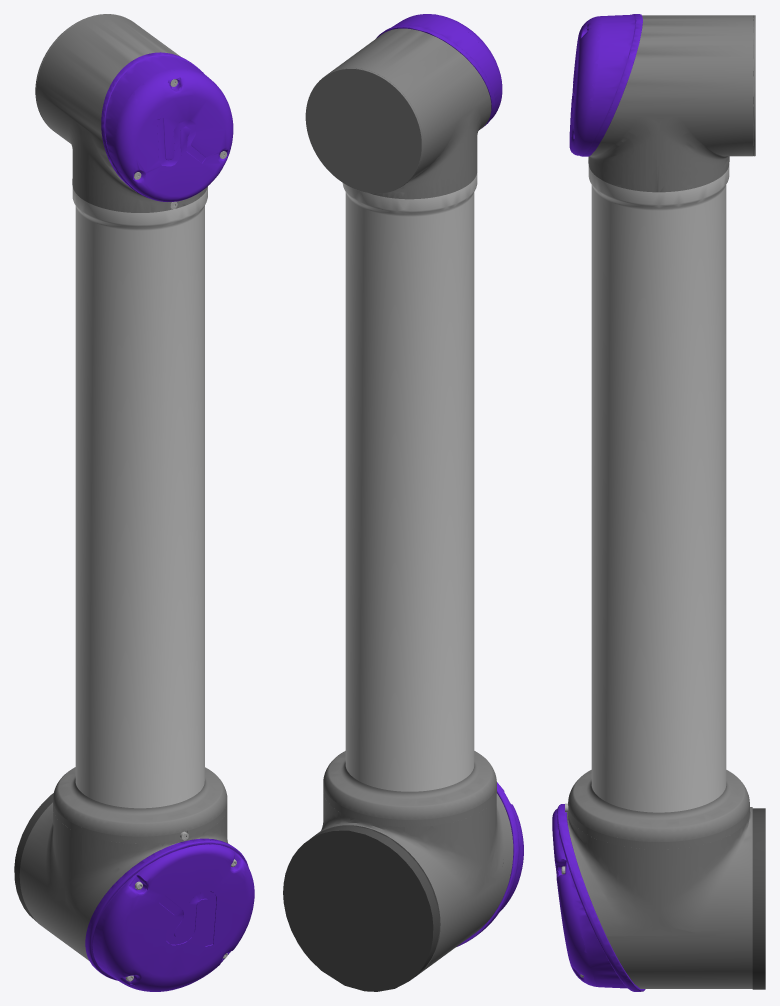
File: forearm.dae
3 renders of one model, left to right at view 1: azimuth 30°, elevation 25°; view 2: azimuth 150°, elevation 25°; view 3: azimuth 270°, elevation 25°, orthographic. The views are drawn at different scales.
Visible parts, largest first — view 1: node-shape3-name, node-shape1-name, node-shape0-name, node-shape4-name; view 2: node-shape3-name, node-shape0-name, node-shape4-name, node-shape1-name; view 3: node-shape3-name, node-shape0-name, node-shape1-name, node-shape4-name.
Part boxes in pixels (bbox=[...]): node-shape3-name: bbox=[72, 186, 207, 808]; node-shape1-name: bbox=[85, 52, 254, 991]; node-shape0-name: bbox=[19, 14, 228, 960]; node-shape4-name: bbox=[14, 793, 53, 923]; node-shape3-name: bbox=[342, 173, 477, 791]; node-shape0-name: bbox=[305, 28, 513, 974]; node-shape4-name: bbox=[283, 825, 439, 991]; node-shape1-name: bbox=[376, 14, 523, 946]; node-shape3-name: bbox=[588, 165, 729, 812]; node-shape0-name: bbox=[567, 15, 755, 988]; node-shape1-name: bbox=[552, 14, 645, 991]; node-shape4-name: bbox=[752, 808, 765, 989].
Bounding box in the file's own units: 0.12 × 0.1362 × 0.6775.
